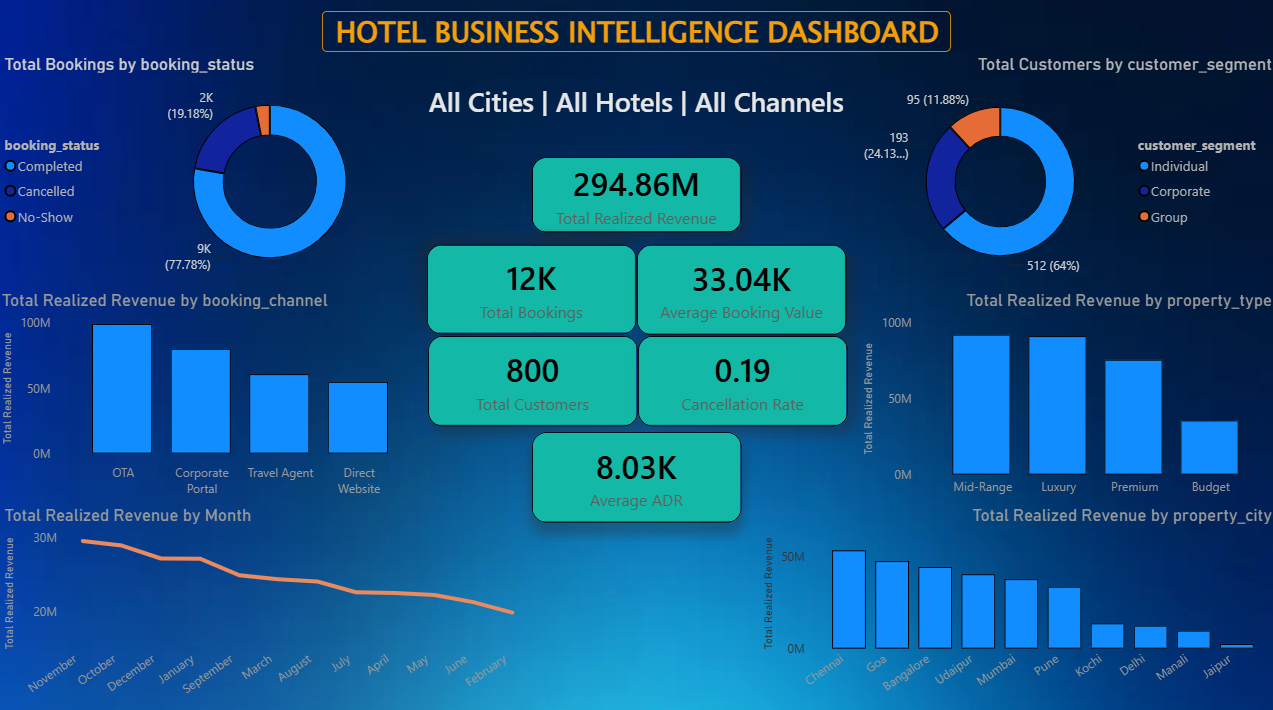

The dashboard page shown, as its layout file describes it:
{"tool":"powerbi","page":{"name":"Page 1","canvas":[1280,720],"ordinal":0},"visuals":[{"type":"textbox","title":"HOTEL BUSINESS INTELLIGENCE DASHBOARD","box":[325.6,15.1,629.1,40.7],"z":0},{"type":"cardVisual","fields":{"Data":["Measure_Table.Total Realized Revenue"]},"box":[534.9,161.6,209.3,75.6],"z":1000},{"type":"columnChart","fields":{"Category":["hotel_bookings_clean.property_city"],"Y":["Measure_Table.Total Realized Revenue"]},"box":[761.6,509.3,518.6,208.1],"z":7000},{"type":"cardVisual","title":"text","fields":{"Data":["Measure_Table.Dashboard Header"]},"box":[48.8,69.8,1181.4,67.4],"z":8000},{"type":"columnChart","fields":{"Category":["hotel_bookings_clean.property_type"],"Y":["Measure_Table.Total Realized Revenue"]},"box":[861.6,294.2,418.6,215.1],"z":9000},{"type":"donutChart","fields":{"Y":["Measure_Table.Total Bookings"],"Category":["hotel_bookings_clean.booking_status"]},"box":[2.3,57,429.1,237.2],"z":10000},{"type":"donutChart","fields":{"Y":["Measure_Table.Total Customers"],"Category":["hotel_bookings_clean.customer_segment"]},"box":[861.6,57,418.6,237.2],"z":11000},{"type":"lineChart","fields":{"Y":["Measure_Table.Total Realized Revenue"],"Category":["Dim_Date.Month"]},"box":[2.3,509.3,533.7,208.1],"z":12000},{"type":"columnChart","fields":{"Y":["Measure_Table.Total Realized Revenue"],"Category":["Dim_Channel.booking_channel"]},"box":[0,294.2,430.2,215.1],"z":13000},{"type":"cardVisual","fields":{"Data":["Measure_Table.Total Customers"]},"box":[431.4,339.5,209.3,90.7],"z":14000},{"type":"cardVisual","fields":{"Data":["Measure_Table.Total Bookings"]},"box":[430.2,248.8,209.3,89.5],"z":15000},{"type":"cardVisual","fields":{"Data":["Measure_Table.Average Booking Value"]},"box":[639.5,248.8,209.3,90.7],"z":16000},{"type":"cardVisual","fields":{"Data":["Measure_Table.Cancellation Rate"]},"box":[640.7,339.5,209.3,90.7],"z":17000},{"type":"cardVisual","fields":{"Data":["Measure_Table.Average ADR"]},"box":[534.9,436,209.3,90.7],"z":18000}]}

Visuals, with their boxes in screenshot pixels (x1, y1, x2, y2), scaled from the page's 1280x720 canvas onto the 1273x710 screenshot:
"HOTEL BUSINESS INTELLIGENCE DASHBOARD" textbox: (324,15,949,55)
cardVisual - Measure_Table.Total Realized Revenue: (532,159,740,234)
columnChart - hotel_bookings_clean.property_city x Measure_Table.Total Realized Revenue: (757,502,1272,707)
"text" cardVisual: (49,69,1223,135)
columnChart - hotel_bookings_clean.property_type x Measure_Table.Total Realized Revenue: (857,290,1272,502)
donutChart - Measure_Table.Total Bookings x hotel_bookings_clean.booking_status: (2,56,429,290)
donutChart - Measure_Table.Total Customers x hotel_bookings_clean.customer_segment: (857,56,1272,290)
lineChart - Measure_Table.Total Realized Revenue x Dim_Date.Month: (2,502,533,707)
columnChart - Measure_Table.Total Realized Revenue x Dim_Channel.booking_channel: (0,290,428,502)
cardVisual - Measure_Table.Total Customers: (429,335,637,424)
cardVisual - Measure_Table.Total Bookings: (428,245,636,334)
cardVisual - Measure_Table.Average Booking Value: (636,245,844,335)
cardVisual - Measure_Table.Cancellation Rate: (637,335,845,424)
cardVisual - Measure_Table.Average ADR: (532,430,740,519)
